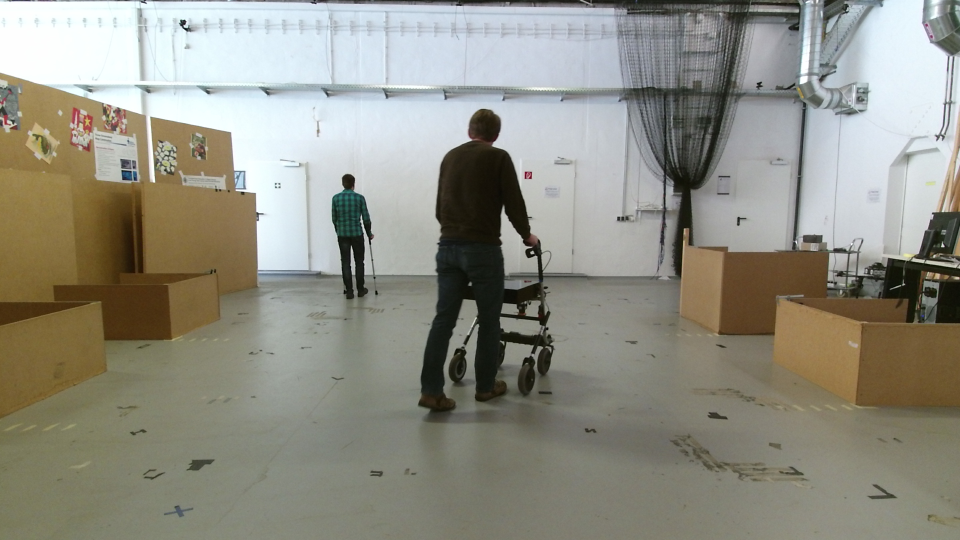crutches: (323, 170, 381, 301)
